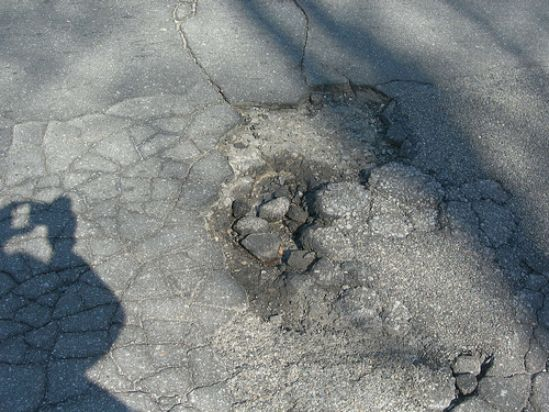pothole: (196, 75, 415, 324)
